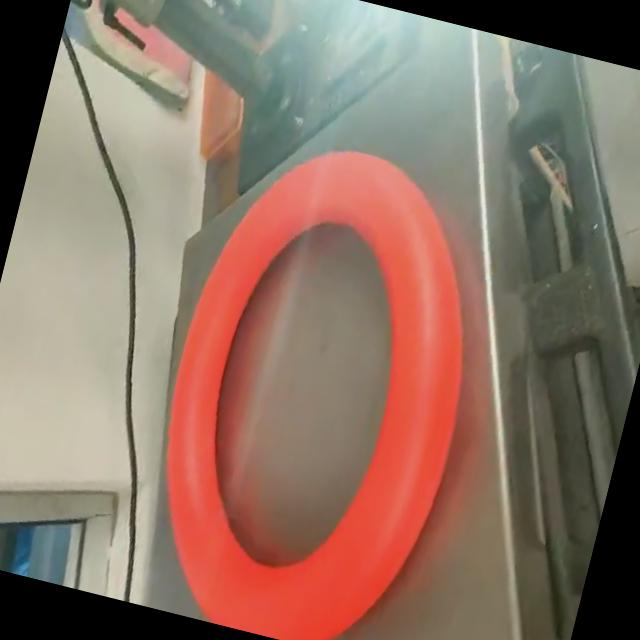note: (117, 120, 520, 640)
